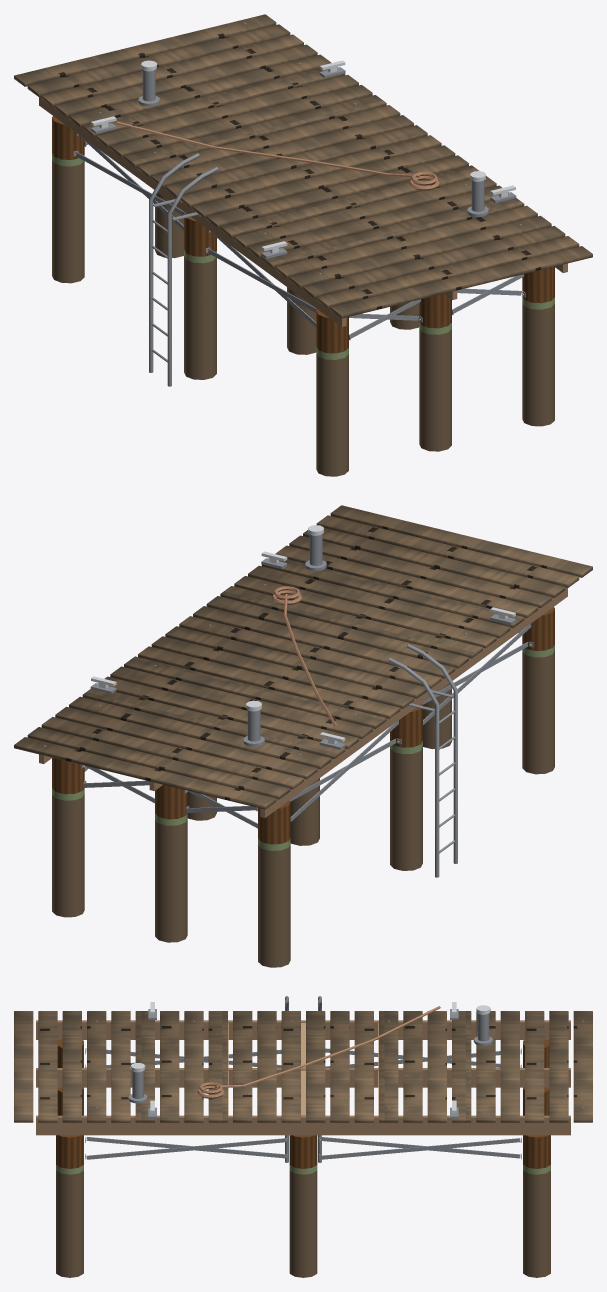
File: Dock_Straight.fbx
3 views of the same model, one above another, from view 1: azimuth 30°, elevation 25°; view 2: azimuth 150°, elevation 25°; view 3: azimuth 270°, elevation 25° (orthographic). The views are drawn at different scales.
Visible parts, largest first — view 1: LOD0; view 2: LOD0; view 3: LOD0.
Part boxes in pixels (x1,y1,x2,y2): LOD0: (14, 14, 592, 476); LOD0: (14, 505, 592, 967); LOD0: (14, 996, 592, 1277).
Size of what is drawn, in the model's own units: 284 by 223 by 595.
